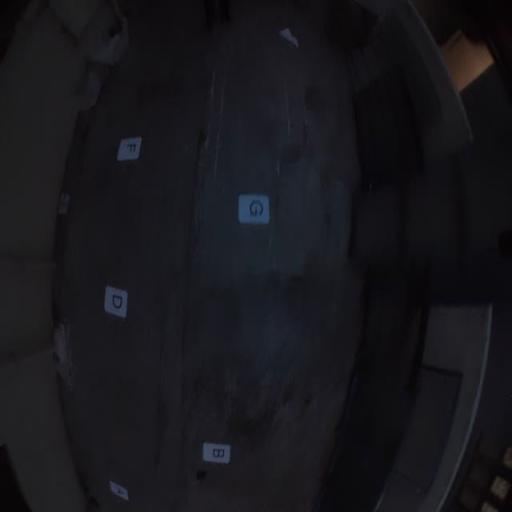A: (108, 480, 130, 502)
B: (202, 442, 232, 464)
D: (103, 285, 129, 319)
F: (116, 137, 142, 162)
G: (238, 194, 270, 225)
